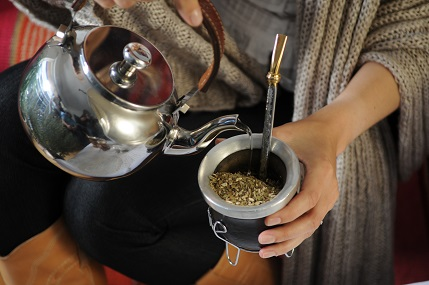guampa: (202, 26, 306, 257)
